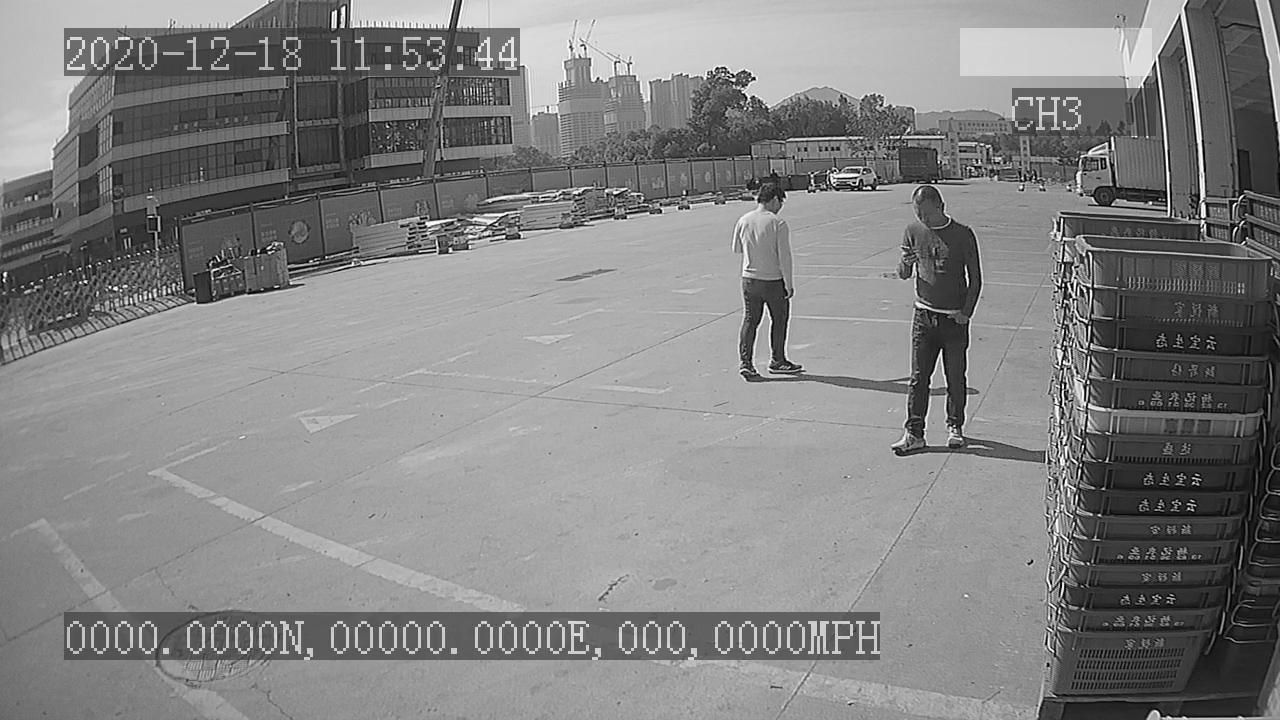person: (881, 183, 992, 458), (724, 183, 809, 386)
